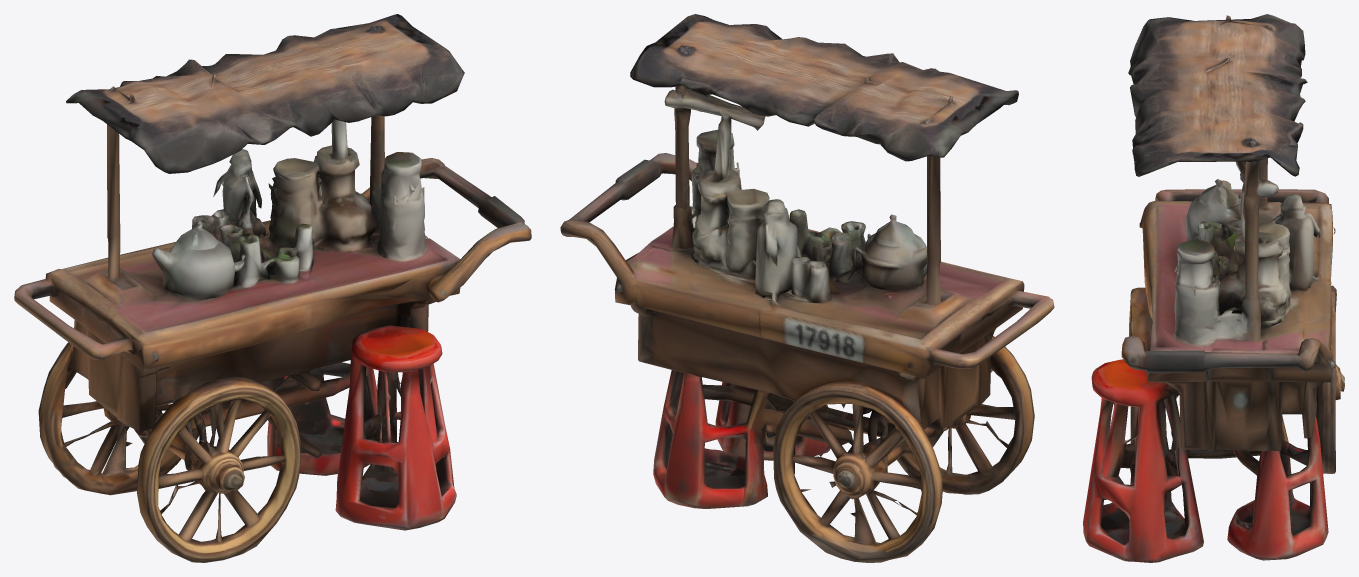
Rendered from Meshy_AI_A_highly_detailed_3D__0531115205_texture.fbx.
3 views of the same model, side by side, from view 1: azimuth 30°, elevation 25°; view 2: azimuth 150°, elevation 25°; view 3: azimuth 270°, elevation 25° (orthographic). The views are drawn at different scales.
Visible parts, largest first — view 1: Mesh_0; view 2: Mesh_0; view 3: Mesh_0.
Boxes of the visible parts, x1,y1,x2,y2 form: Mesh_0: (14,14,531,562); Mesh_0: (560,14,1054,562); Mesh_0: (1083,14,1344,562).
Size of the model in its own units: 200 by 199 by 110.
Materials: 1 (1 with a texture image).
